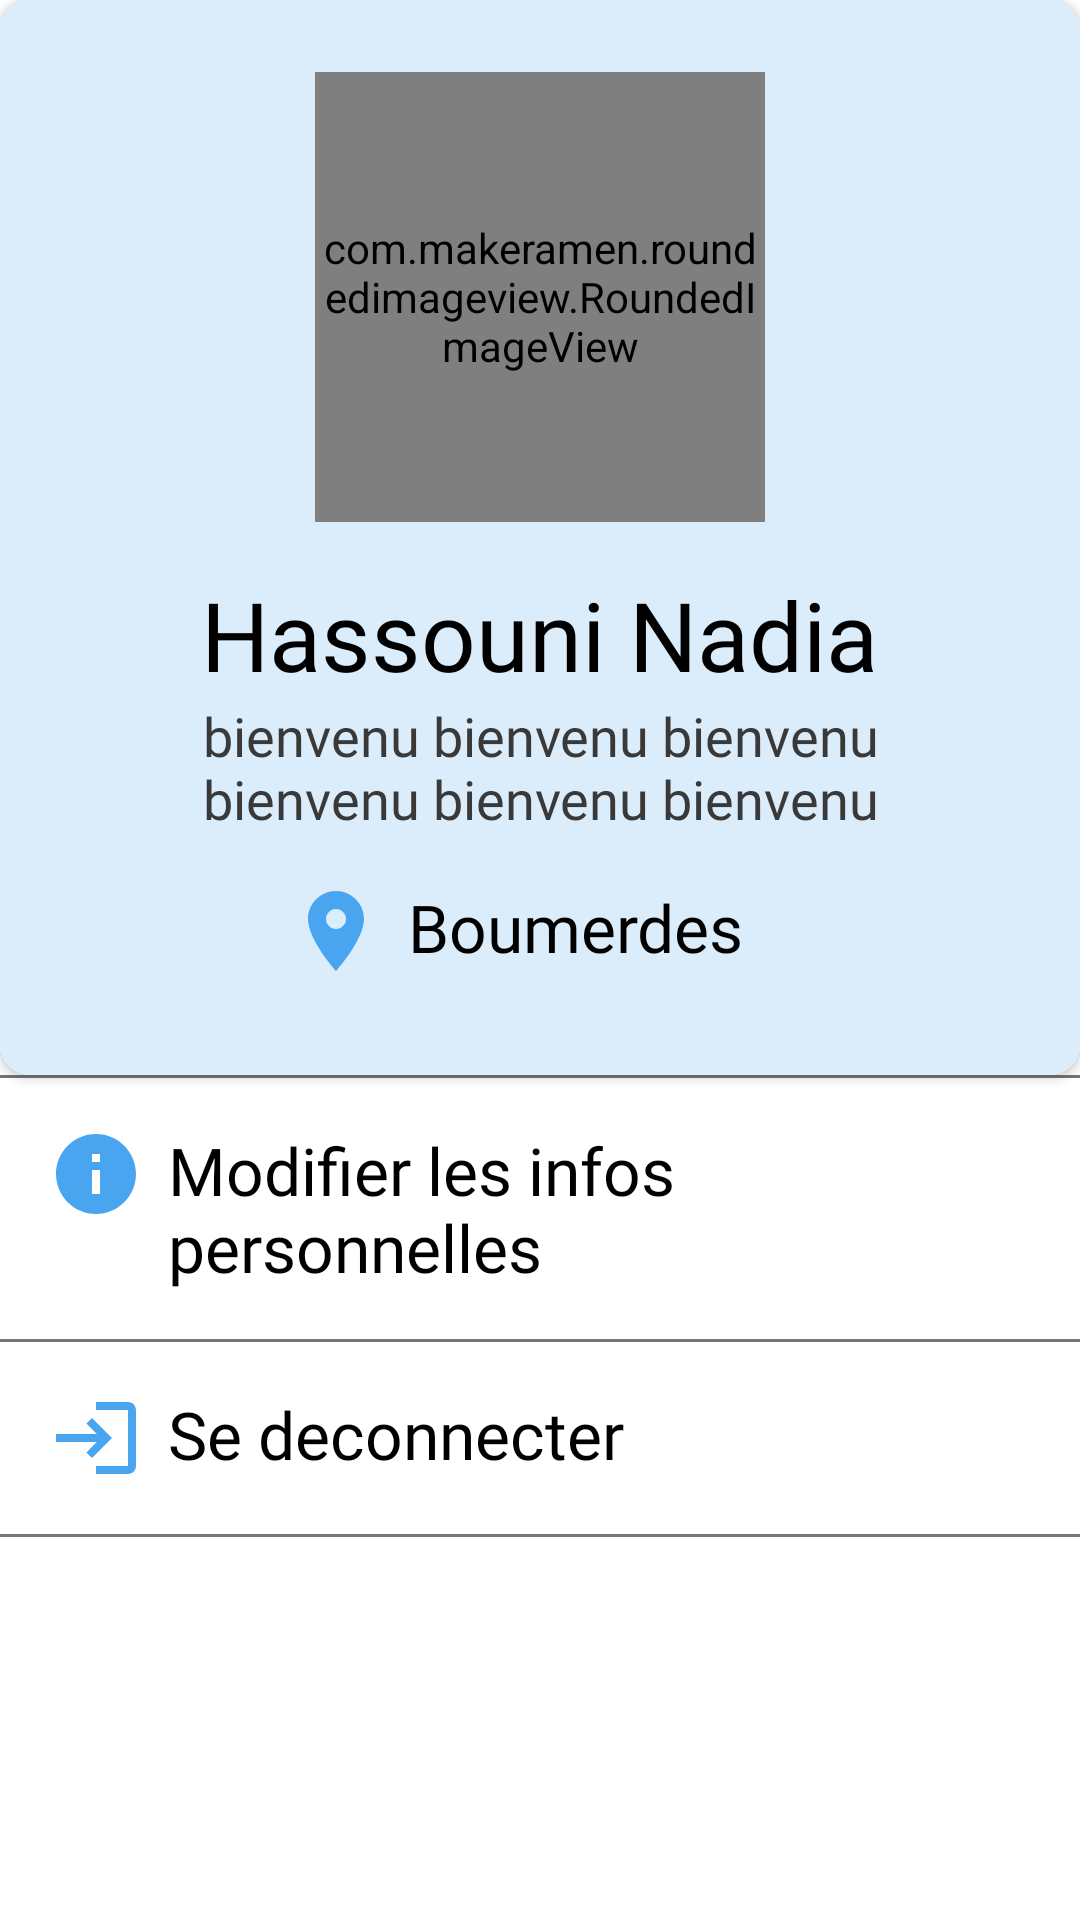

Icon bounding boxes for this 1080w x 1920h phone screenshot, format {"x1": x1, "y1": y1, "x2": x2, "y2": y2}:
location: {"x1": 308, "y1": 891, "x2": 364, "y2": 971}
